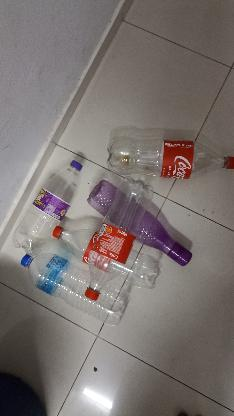Plastic Bottle: (102, 128, 234, 176), (30, 148, 86, 216), (14, 254, 80, 310), (150, 200, 202, 264), (94, 218, 132, 274)
